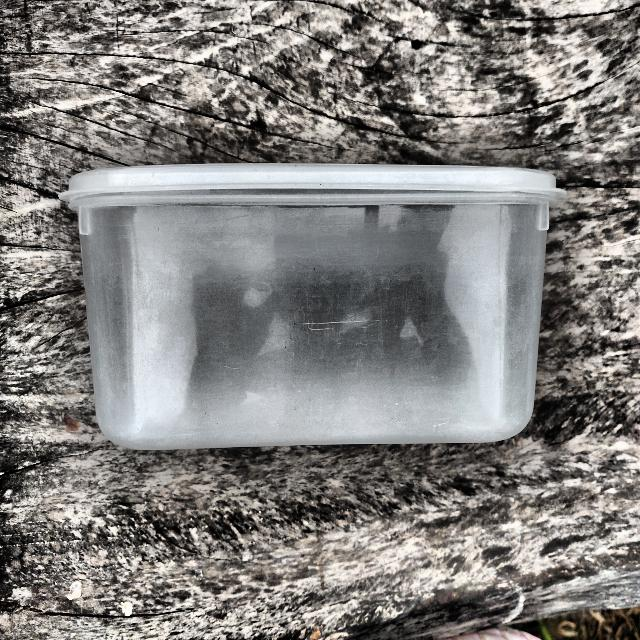plastic container: (56, 134, 554, 485)
